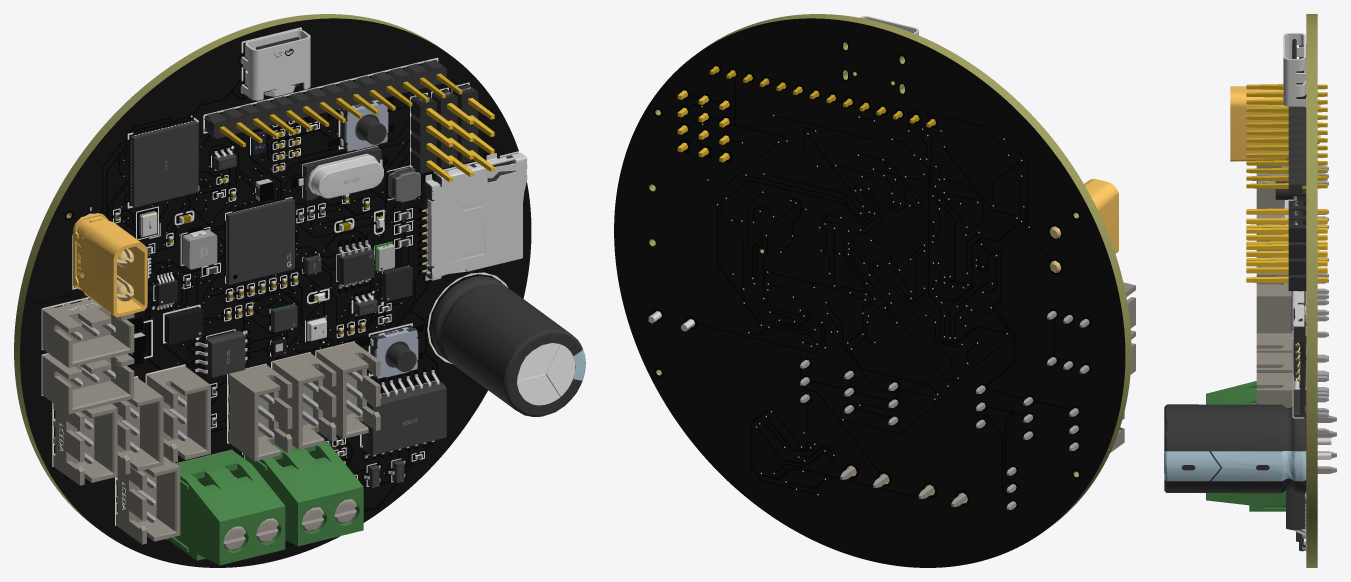
The model's file is 3D_PCB1_2026-08-08.obj.
The picture shows the model from 3 angles, left to right: view 1: azimuth 30°, elevation 25°; view 2: azimuth 150°, elevation 25°; view 3: azimuth 270°, elevation 25°; orthographic projection. The views are drawn at different scales.
Bounding box in the file's own units: 77.97 × 77.97 × 24.31.
